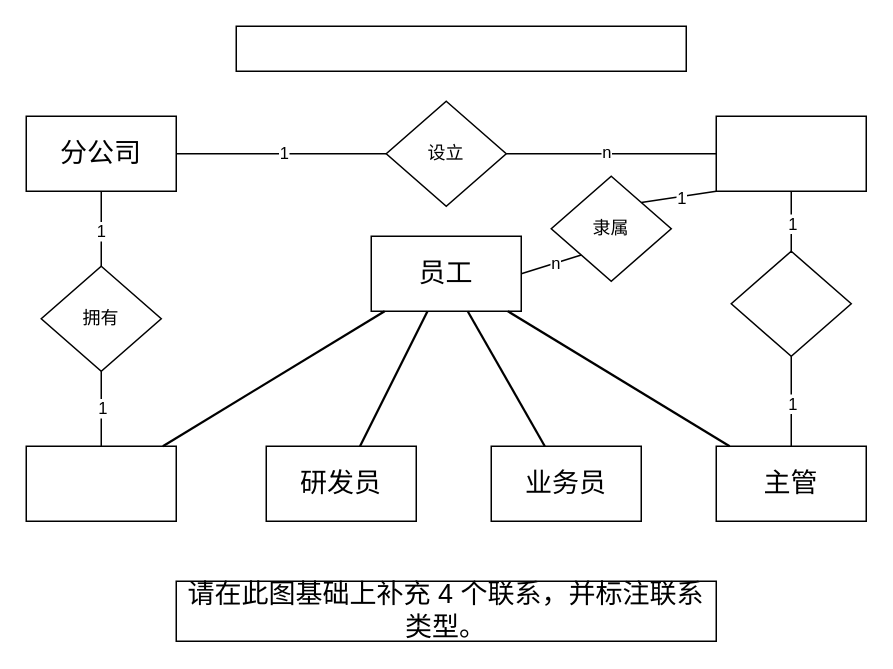
Image size: 893x669. Some labels were removed from this diagram. The box of each missing label's shape, as (x1, y1, x2, y2) in pixels:
图2-1 实体联系图（不完整）: (235, 25, 686, 71)
管理: (730, 250, 851, 356)
经理: (25, 445, 176, 521)
部门: (715, 115, 866, 191)
